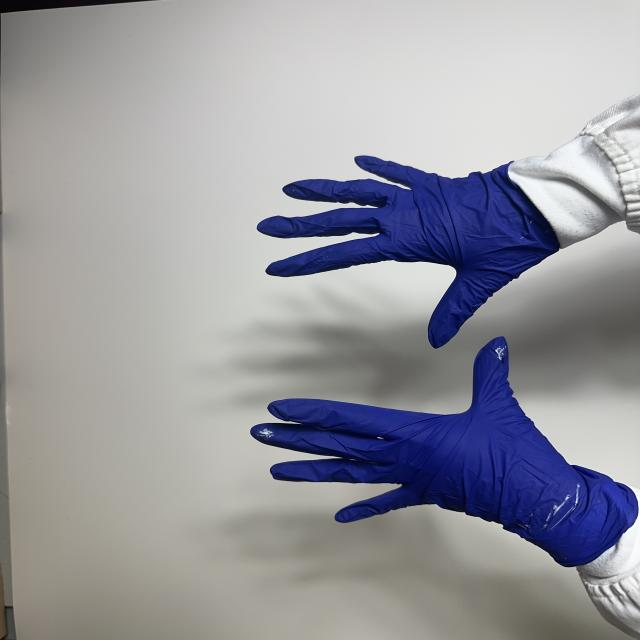gloves_contaminated: (251, 337, 637, 566), (258, 156, 559, 348)
